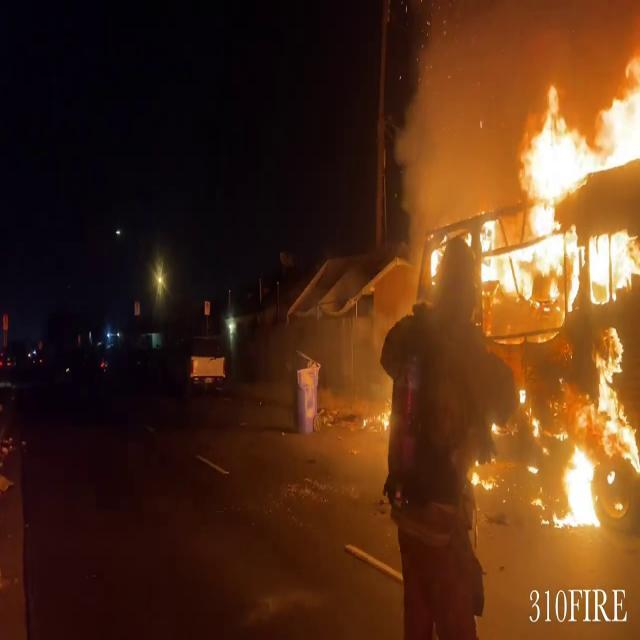Fire: (470, 44, 640, 298), (534, 338, 640, 538)
Smoke: (401, 0, 586, 208)
